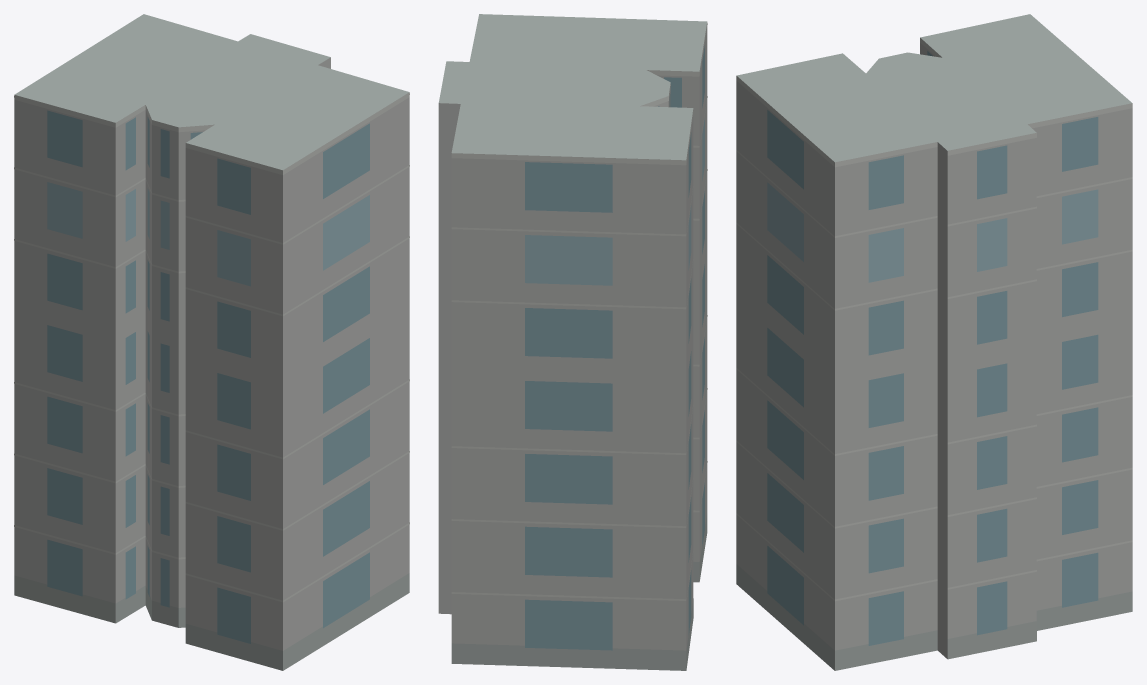
Rendered from survey-upis-32743664.glb.
3 views of the same model, side by side, from view 1: azimuth 30°, elevation 25°; view 2: azimuth 150°, elevation 25°; view 3: azimuth 270°, elevation 25° (orthographic). The views are drawn at different scales.
Visible parts, largest first — view 1: survey-upis-32743664.tmp; view 2: survey-upis-32743664.tmp; view 3: survey-upis-32743664.tmp.
Boxes of the visible parts, x1,y1,x2,y2 form: survey-upis-32743664.tmp: (14,14,409,670); survey-upis-32743664.tmp: (438,14,707,670); survey-upis-32743664.tmp: (736,14,1132,670).
Size of the model in its own units: 15.51 by 24.75 by 17.5.
